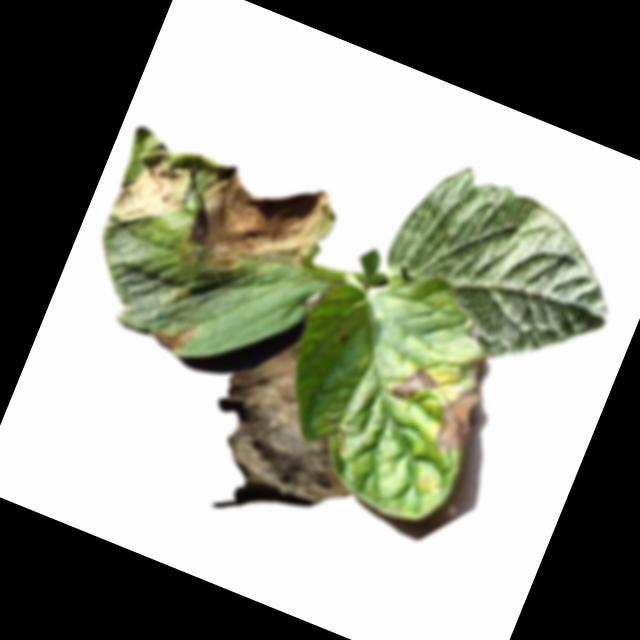Late_blight: (196, 322, 396, 518), (166, 146, 344, 319), (105, 141, 199, 243), (420, 374, 488, 461), (388, 360, 441, 411), (148, 313, 198, 360), (455, 352, 484, 383), (335, 329, 352, 347)
